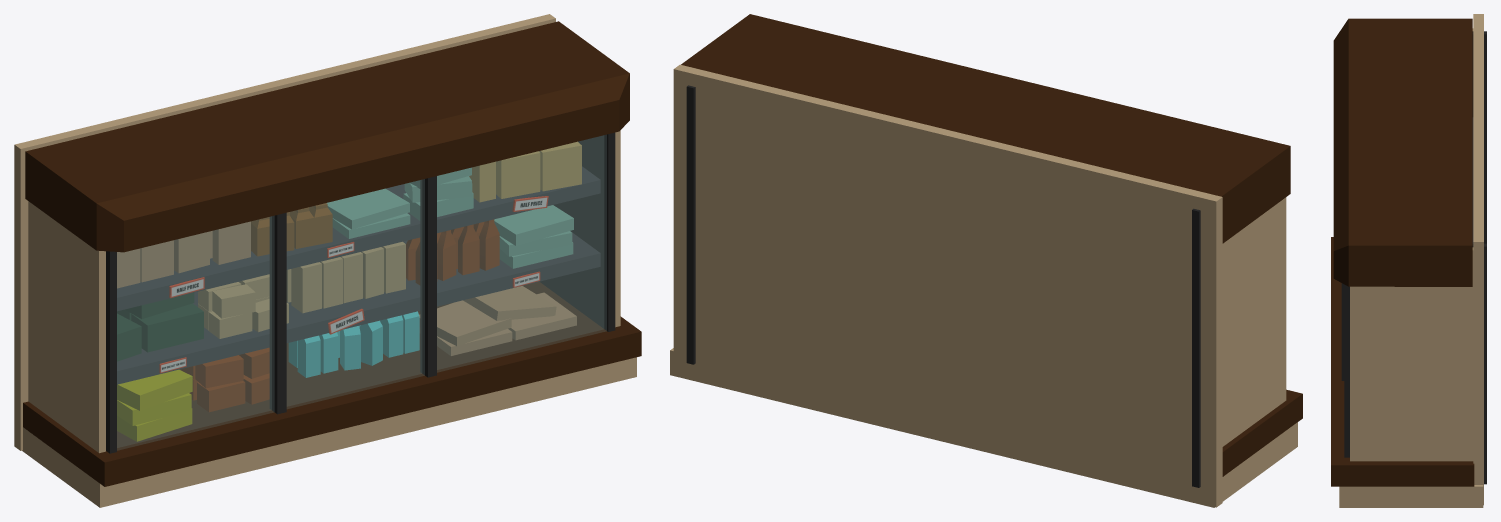
File: Refrigerator.fbx
3 views of the same model, side by side, from view 1: azimuth 30°, elevation 25°; view 2: azimuth 150°, elevation 25°; view 3: azimuth 270°, elevation 25° (orthographic). The views are drawn at different scales.
Visible parts, largest first — view 1: polySurface138; view 2: polySurface138; view 3: polySurface138.
Part boxes in pixels (box(x1,y1,x2,y2)): polySurface138: box(14, 14, 641, 507); polySurface138: box(670, 14, 1302, 507); polySurface138: box(1331, 14, 1486, 507).
Size of the model in its own units: 873 by 469 by 251.
13 materials, 3 textured.
